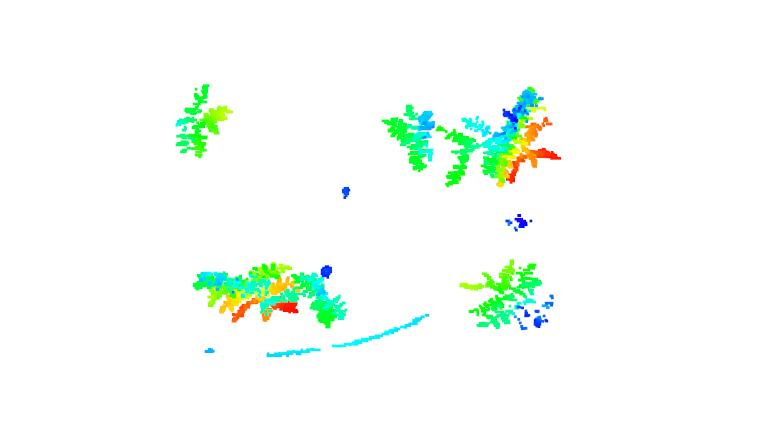chickpea: (441, 86, 561, 189), (191, 261, 301, 323), (454, 257, 547, 330), (166, 81, 234, 159), (383, 103, 438, 172), (294, 267, 349, 328)
